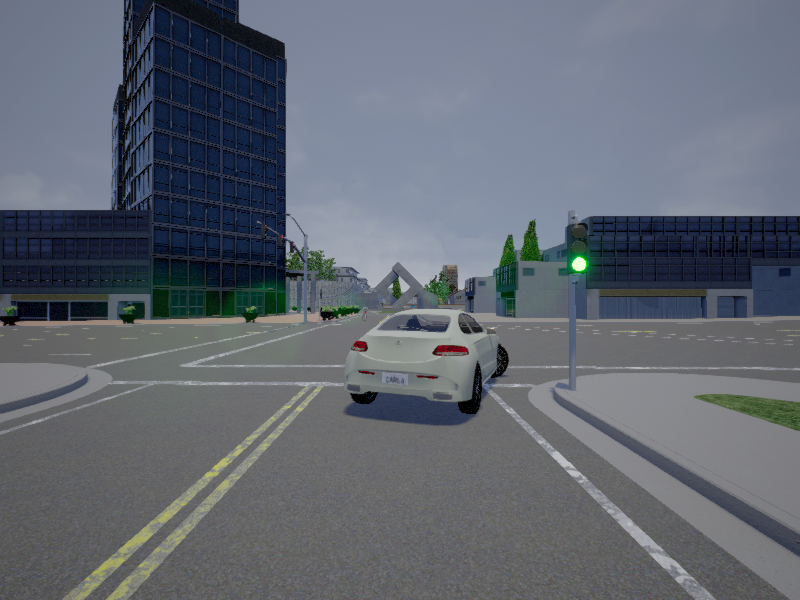Benign: (347, 309, 511, 418)
